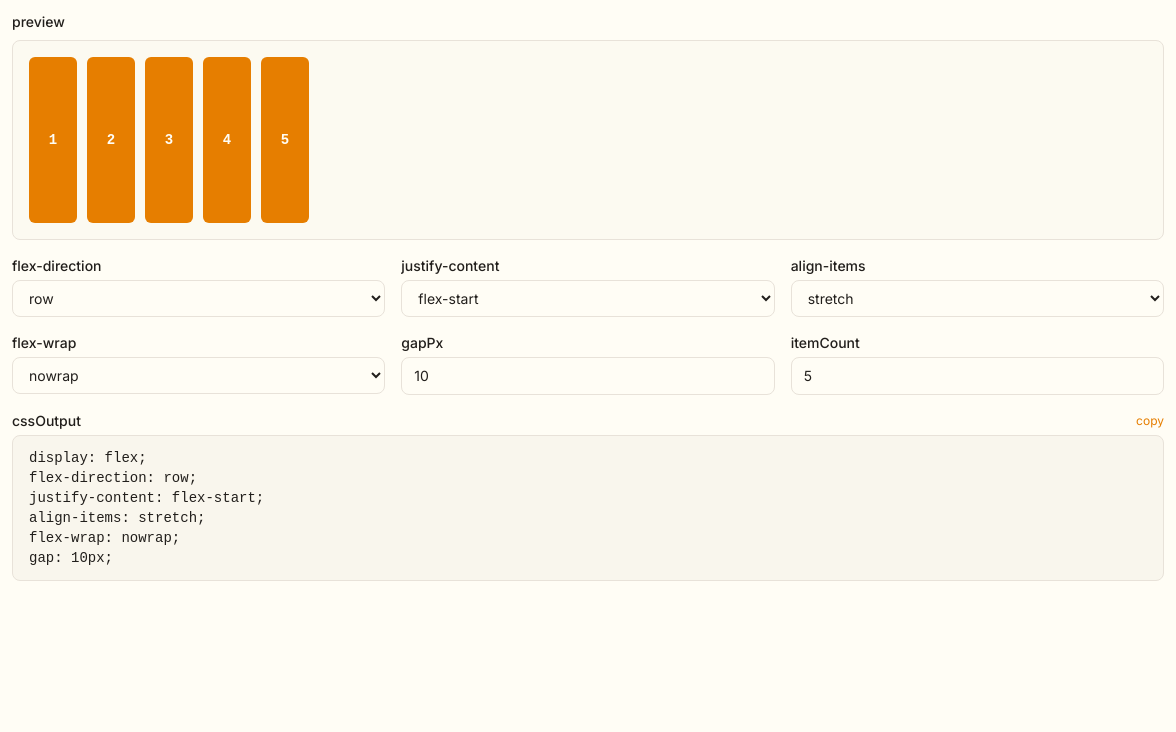
Test: CssFlexboxGenerator › changes justify-content
Step 1. Select "center" in the dropdown labelled "justify-content" → (588,298), box [401, 280, 775, 317]
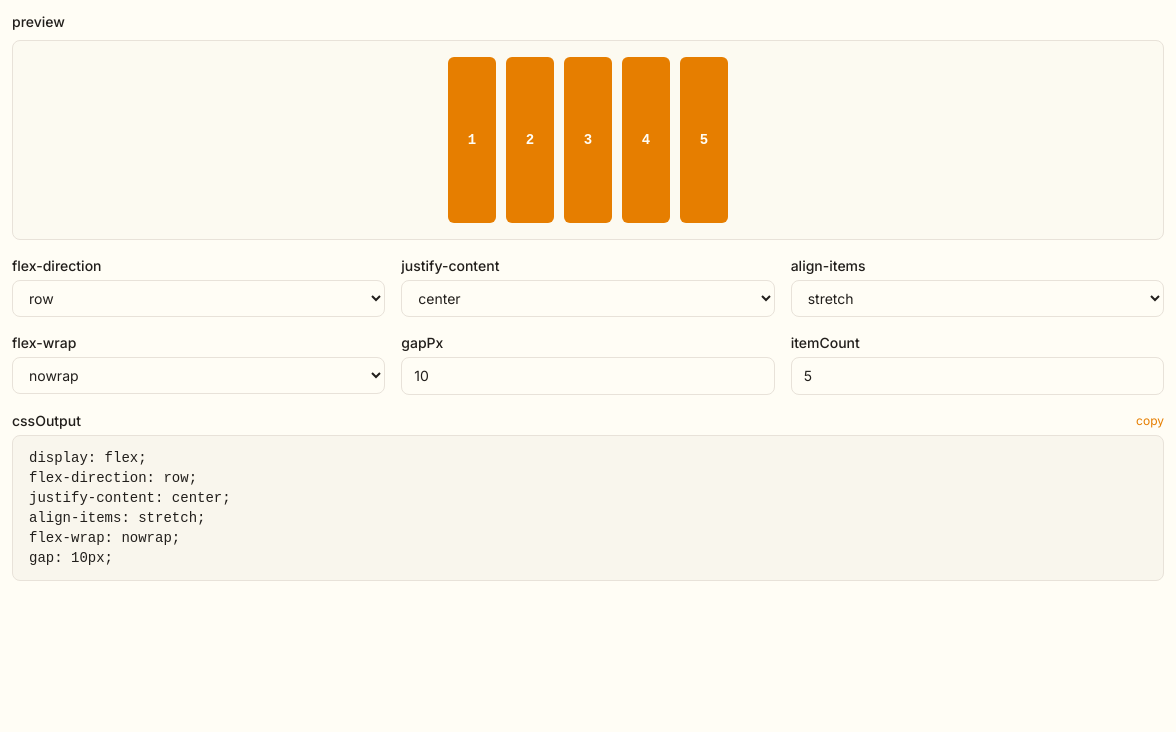
Expected: the text "justify-content: center" is shown, [29, 450, 231, 566]
